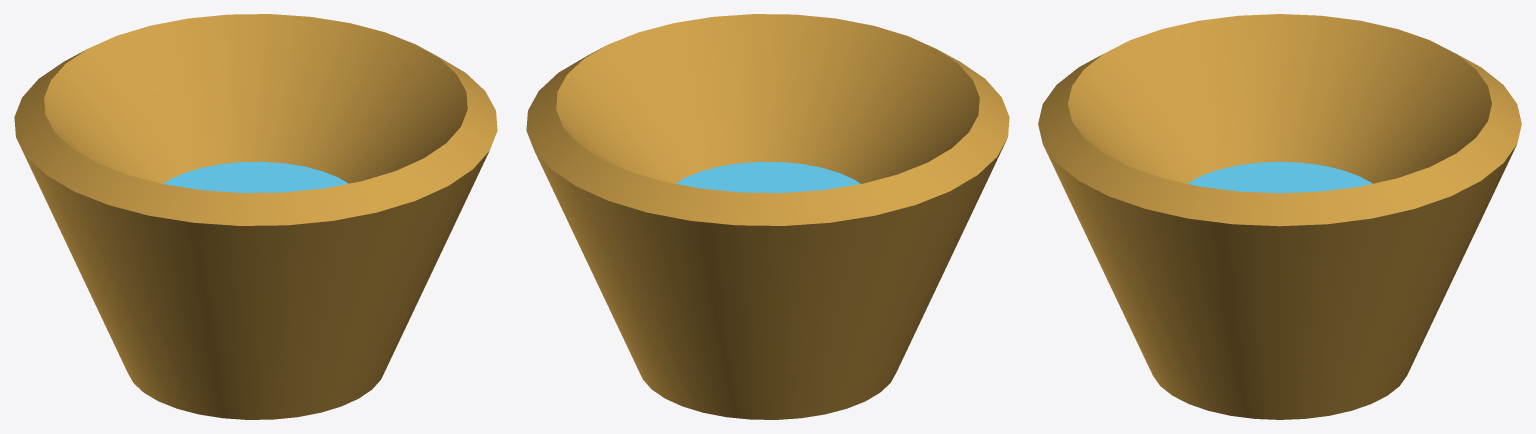
The model's file is Recipient Plant.1.fbx.
The picture shows the model from 3 angles, left to right: view 1: azimuth 30°, elevation 25°; view 2: azimuth 150°, elevation 25°; view 3: azimuth 270°, elevation 25°; orthographic projection.
Parts seen in each view (by area): view 1: VPlanta, Círculo; view 2: VPlanta, Círculo; view 3: VPlanta, Círculo.
Part boxes in pixels (bbox=[...]): VPlanta: bbox=[14, 14, 497, 419]; Círculo: bbox=[163, 161, 348, 192]; VPlanta: bbox=[526, 14, 1009, 419]; Círculo: bbox=[675, 161, 860, 192]; VPlanta: bbox=[1038, 14, 1521, 419]; Círculo: bbox=[1187, 161, 1372, 193].
Bounding box in the file's own units: 100 × 59.67 × 100.
